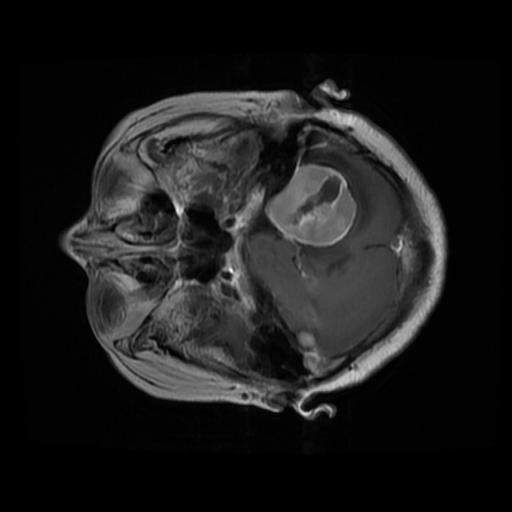meningioma: (263, 164, 356, 247)
